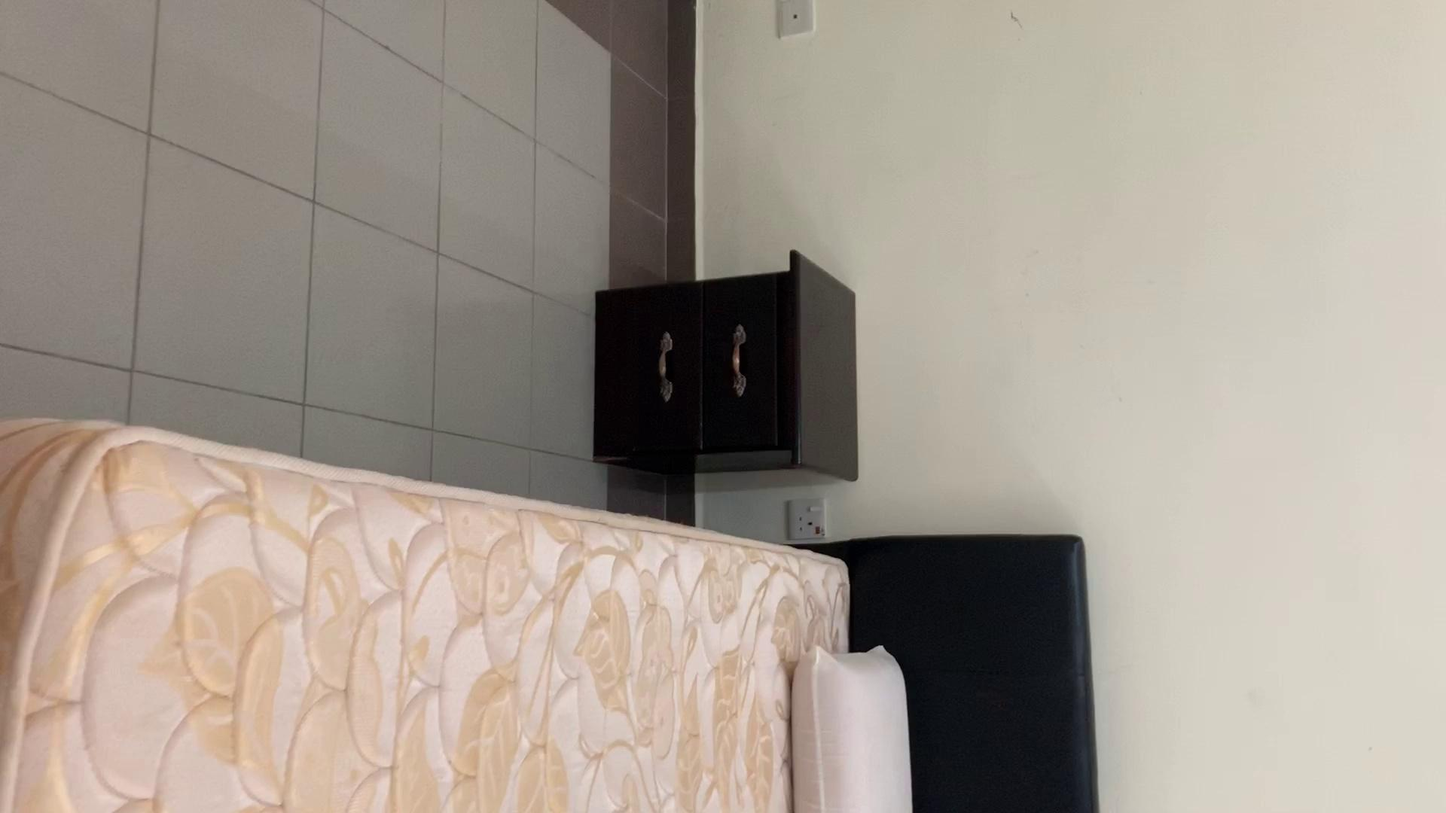bed: (0, 479, 1109, 813)
table: (505, 262, 918, 483)
